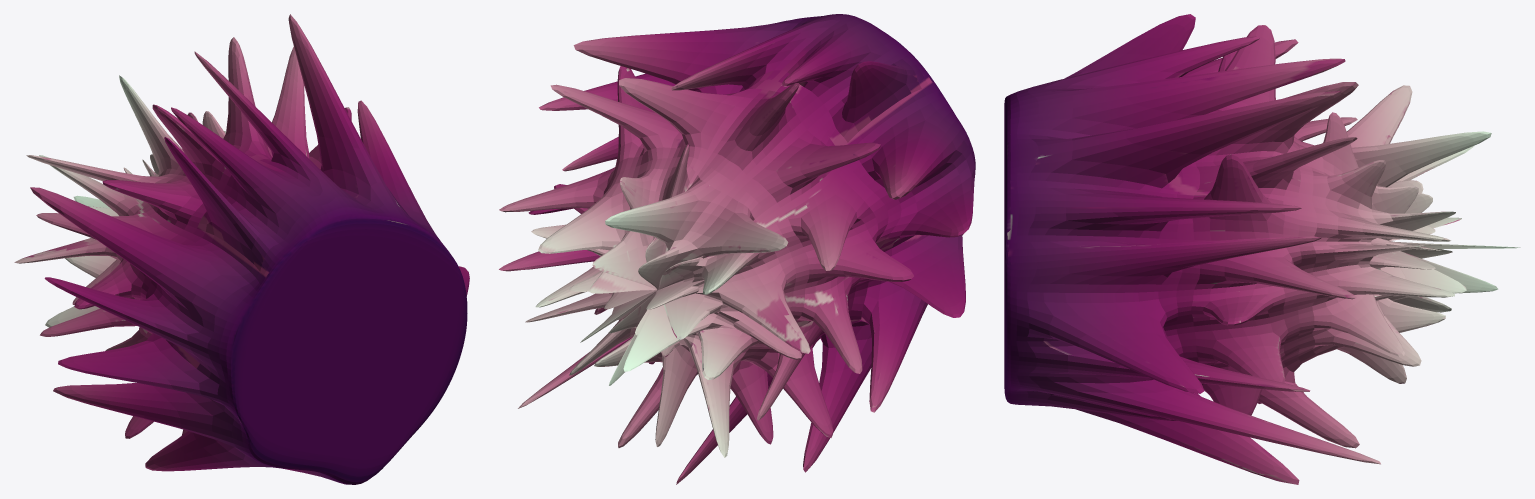
Rendered from CoralTree9.fbx.
The picture shows the model from 3 angles, left to right: view 1: azimuth 30°, elevation 25°; view 2: azimuth 150°, elevation 25°; view 3: azimuth 270°, elevation 25°; orthographic projection. The views are drawn at different scales.
Parts seen in each view (by area): view 1: Sphere; view 2: Sphere; view 3: Sphere.
Part boxes in pixels (left/top/right/bottom): Sphere: left=14, top=14, right=469, bottom=484; Sphere: left=499, top=14, right=975, bottom=484; Sphere: left=1004, top=14, right=1520, bottom=484.
Size of the model in its own units: 5180 by 4873 by 5260.
1 material, 1 textured.
